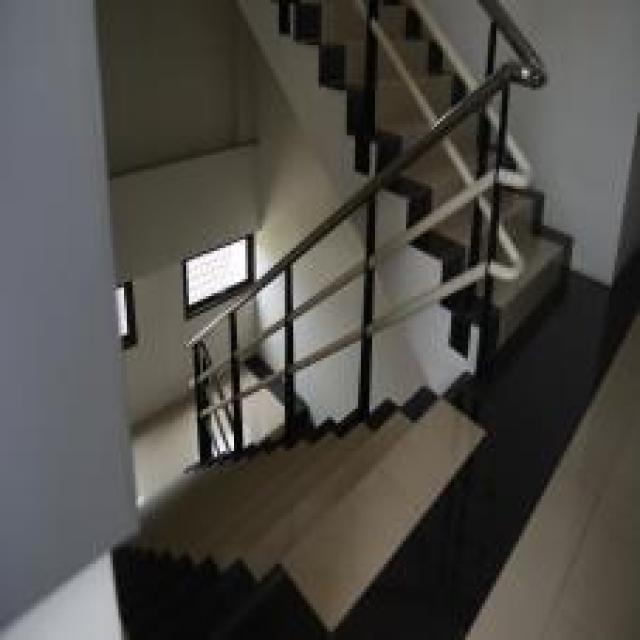downstair: (131, 396, 565, 638)
